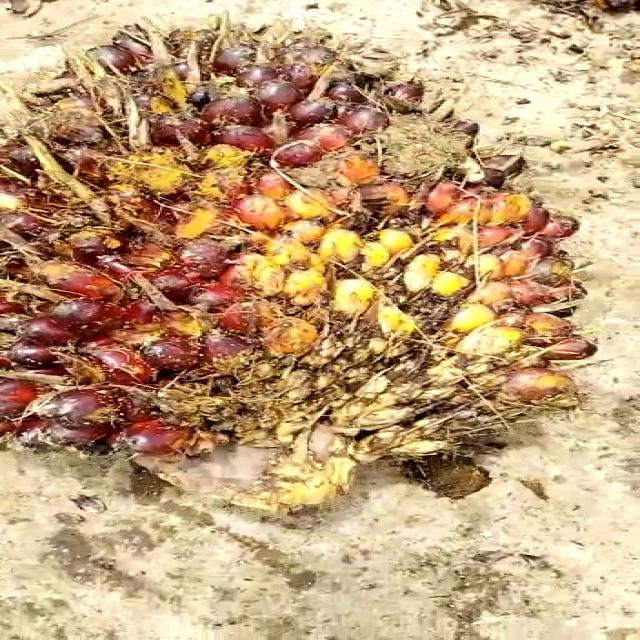palm oil: (0, 23, 585, 491)
